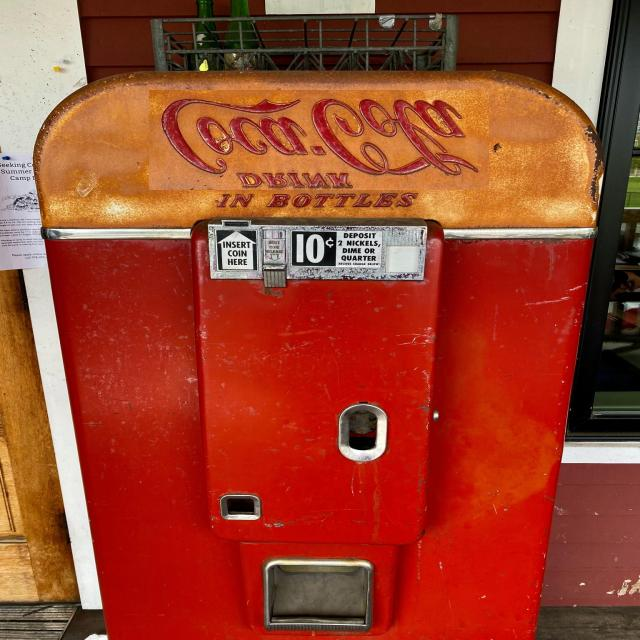coca-cola: (149, 90, 489, 190)
